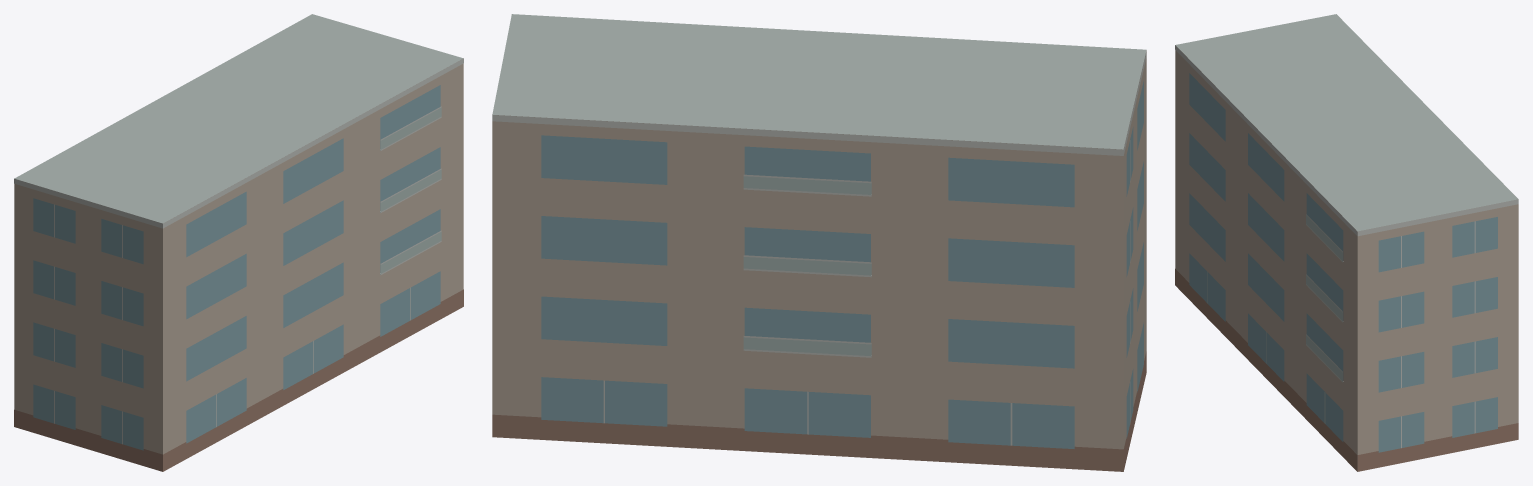
The model's file is survey-upis-32772002.glb.
3 renders of one model, left to right at view 1: azimuth 30°, elevation 25°; view 2: azimuth 150°, elevation 25°; view 3: azimuth 270°, elevation 25°, orthographic. The views are drawn at different scales.
Visible parts, largest first — view 1: survey-upis-32772002.tmp; view 2: survey-upis-32772002.tmp; view 3: survey-upis-32772002.tmp.
Part boxes in pixels (x1,y1,x2,y2): survey-upis-32772002.tmp: (14, 14, 463, 471); survey-upis-32772002.tmp: (492, 14, 1146, 471); survey-upis-32772002.tmp: (1175, 14, 1518, 471).
Size of the model in its own units: 23.42 by 12.06 by 15.63.
